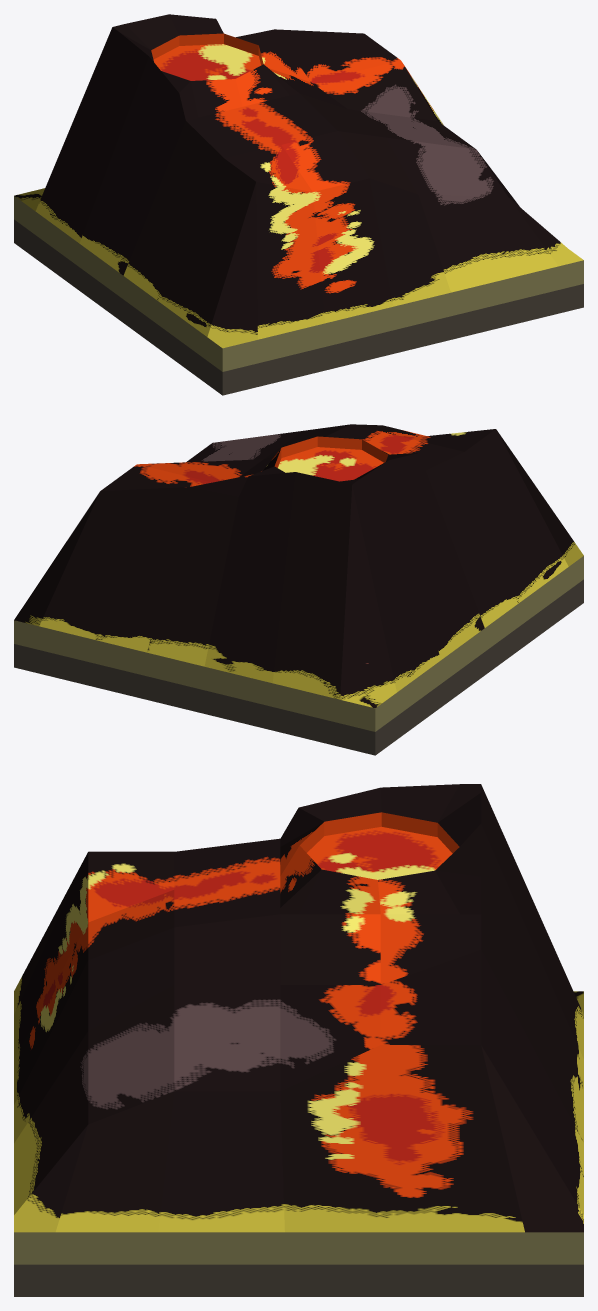
The model's file is tile2_2 Vulkano.fbx.
3 views of the same model, one above another, from view 1: azimuth 30°, elevation 25°; view 2: azimuth 150°, elevation 25°; view 3: azimuth 270°, elevation 25° (orthographic). The views are drawn at different scales.
Parts seen in each view (by area): view 1: Cube.001; view 2: Cube.001; view 3: Cube.001.
Part boxes in pixels (box(x1,y1,x2,y2)): Cube.001: box(14, 14, 583, 395); Cube.001: box(14, 424, 583, 755); Cube.001: box(14, 784, 583, 1296).
Size of the model in its own units: 400 by 242 by 400.
1 material, 1 textured.
